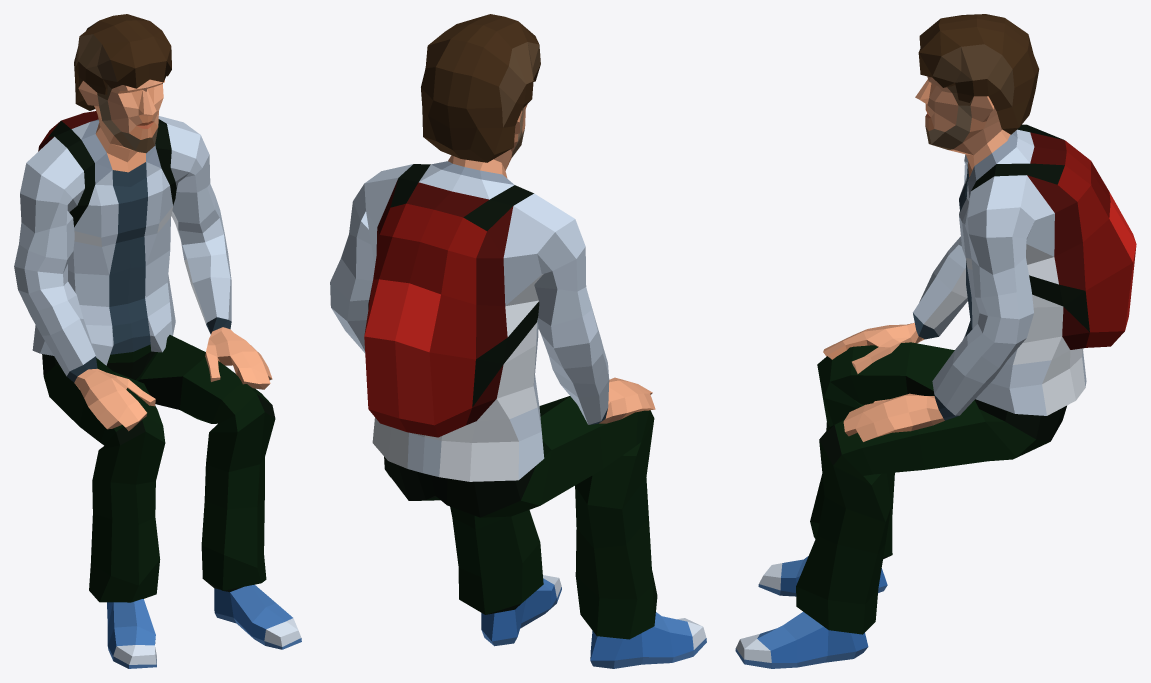
3 renders of one model, left to right at view 1: azimuth 30°, elevation 25°; view 2: azimuth 150°, elevation 25°; view 3: azimuth 270°, elevation 25°, orthographic. The views are drawn at different scales.
Visible parts, largest first — view 1: lpMaleBase_sitting_peopleColors_0; view 2: lpMaleBase_sitting_peopleColors_0; view 3: lpMaleBase_sitting_peopleColors_0.
Boxes of the visible parts, x1,y1,x2,y2 form: lpMaleBase_sitting_peopleColors_0: [14, 14, 301, 668]; lpMaleBase_sitting_peopleColors_0: [330, 14, 706, 668]; lpMaleBase_sitting_peopleColors_0: [735, 14, 1136, 668].
Size of the model in its own units: 55.91 by 145 by 85.99.
